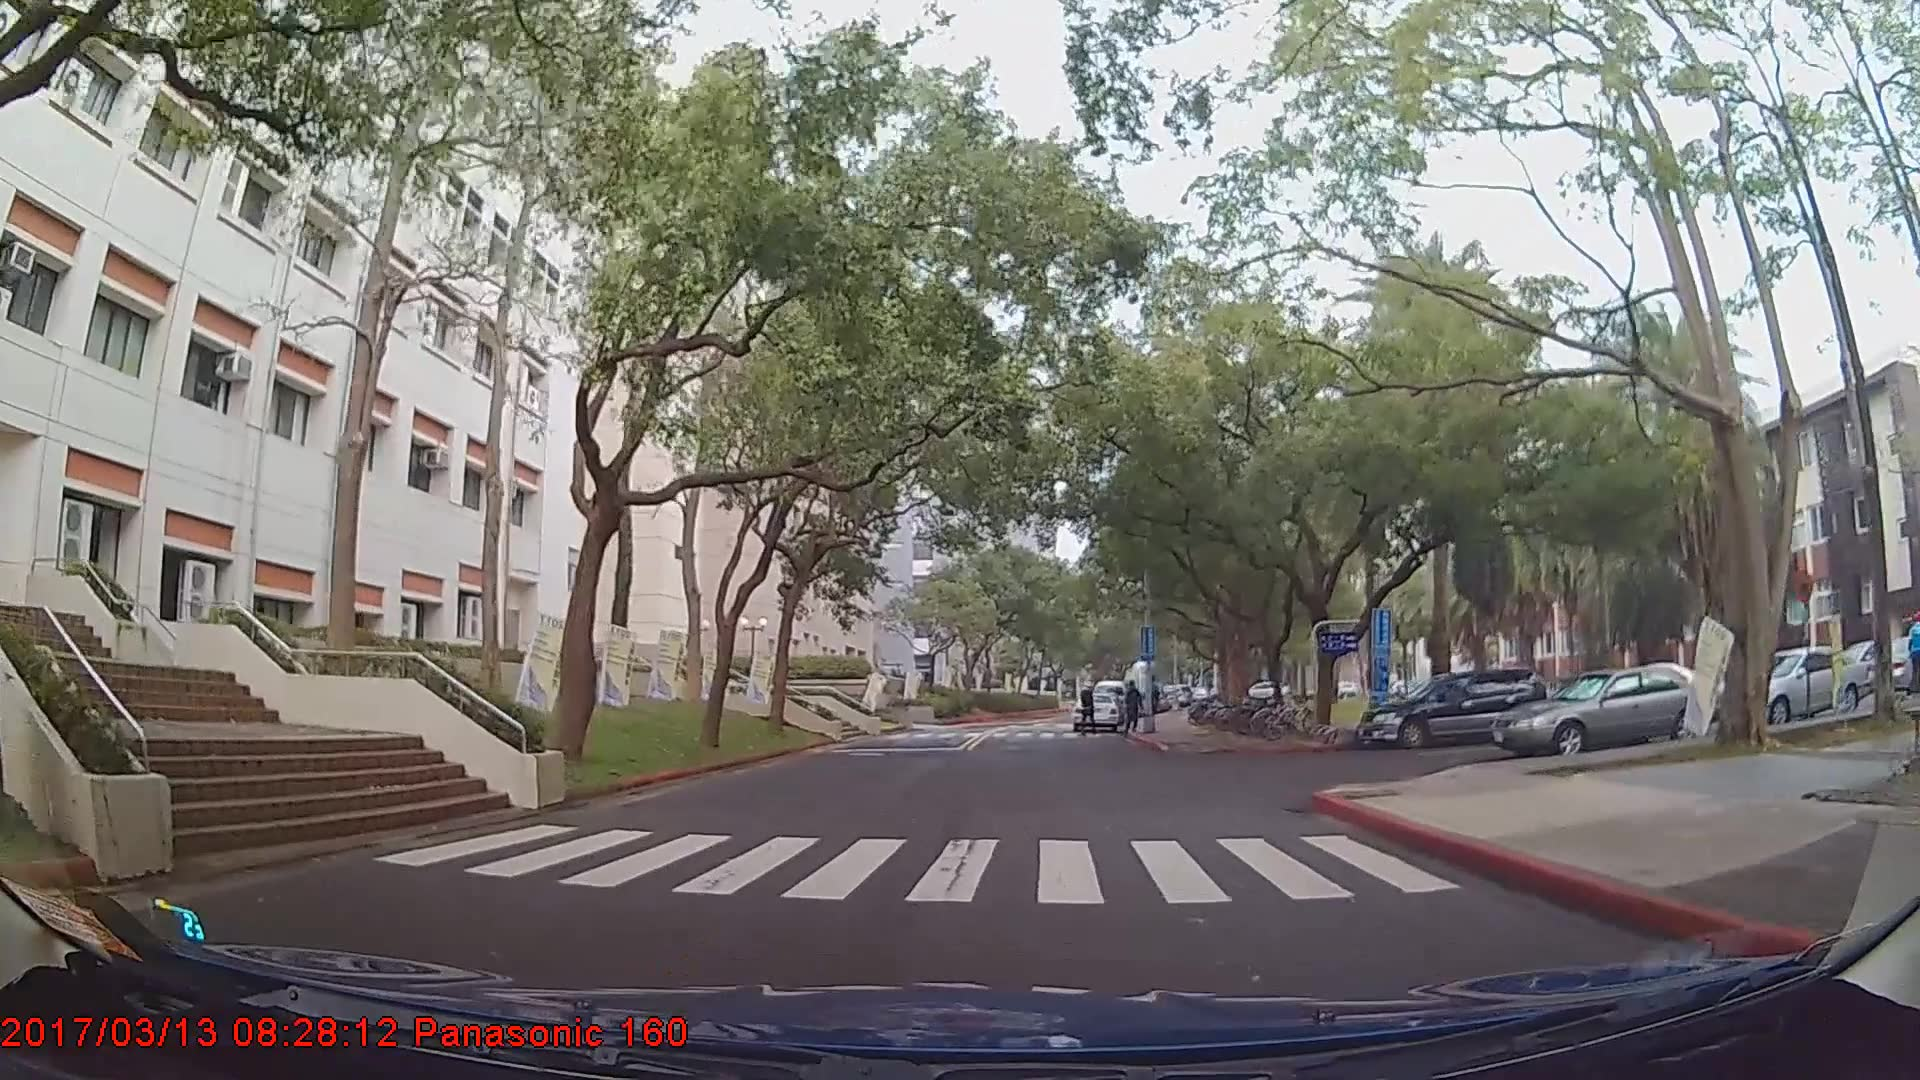pedestrian: (1897, 605, 1920, 701), (1122, 680, 1147, 732), (1080, 683, 1100, 736)
vehicle: (1491, 661, 1724, 761), (1354, 665, 1544, 750), (1737, 646, 1874, 728), (1068, 691, 1119, 732)
